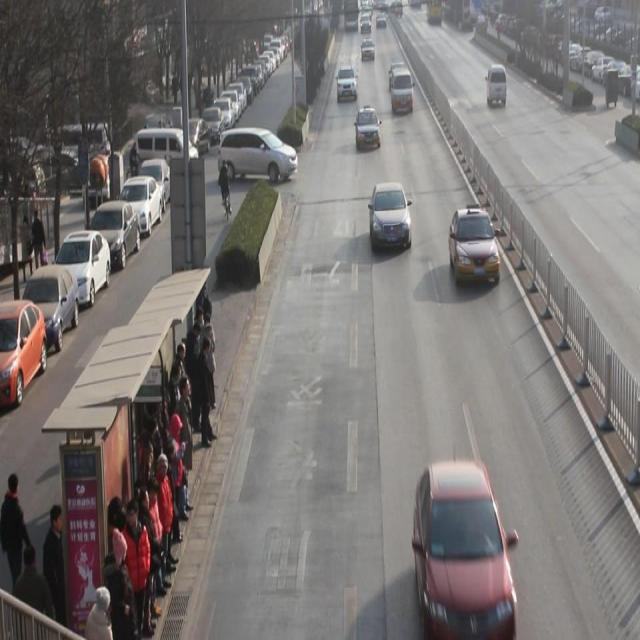car: (413, 458, 518, 632), (450, 205, 500, 288), (370, 180, 412, 250), (356, 104, 381, 148), (337, 64, 358, 100), (388, 64, 406, 96)
truck: (391, 64, 414, 114), (487, 62, 508, 106)
